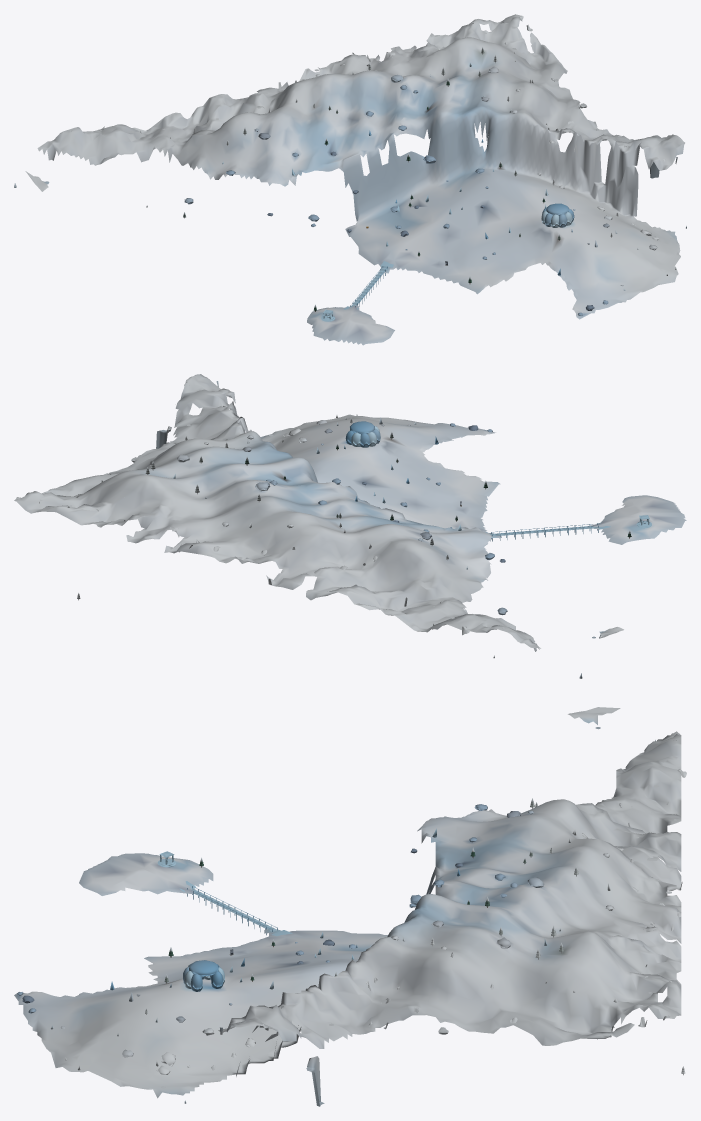
Rendered from frost_isl_frostreach_lod1.glb.
3 renders of one model, top to bottom at view 1: azimuth 30°, elevation 25°; view 2: azimuth 150°, elevation 25°; view 3: azimuth 270°, elevation 25°, orthographic. The views are drawn at different scales.
Parts seen in each view (by area): view 1: frost_isl_frostreach_lod1; view 2: frost_isl_frostreach_lod1; view 3: frost_isl_frostreach_lod1.
Part boxes in pixels (left/top/right/bottom): frost_isl_frostreach_lod1: left=14, top=14, right=686, bottom=345; frost_isl_frostreach_lod1: left=14, top=374, right=686, bottom=678; frost_isl_frostreach_lod1: left=14, top=707, right=686, bottom=1106.
Size of the model in its own units: 344 by 64.93 by 290.
